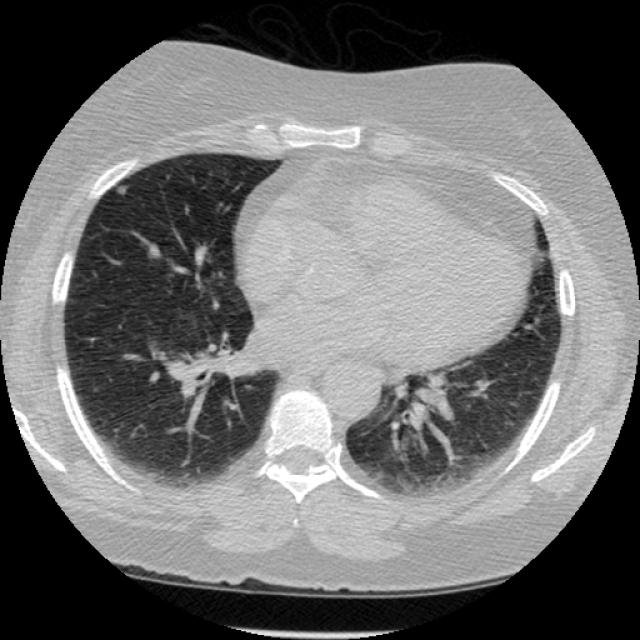nodule: (110, 179, 130, 199)
